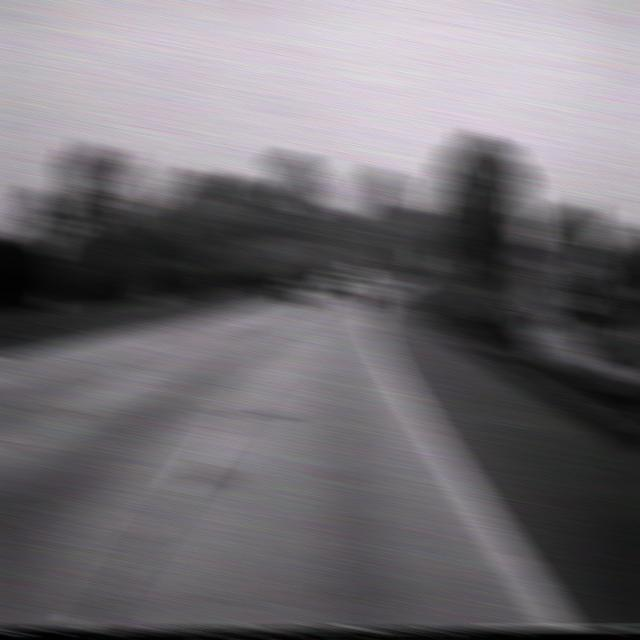speedLimit65: (412, 252, 434, 273)
